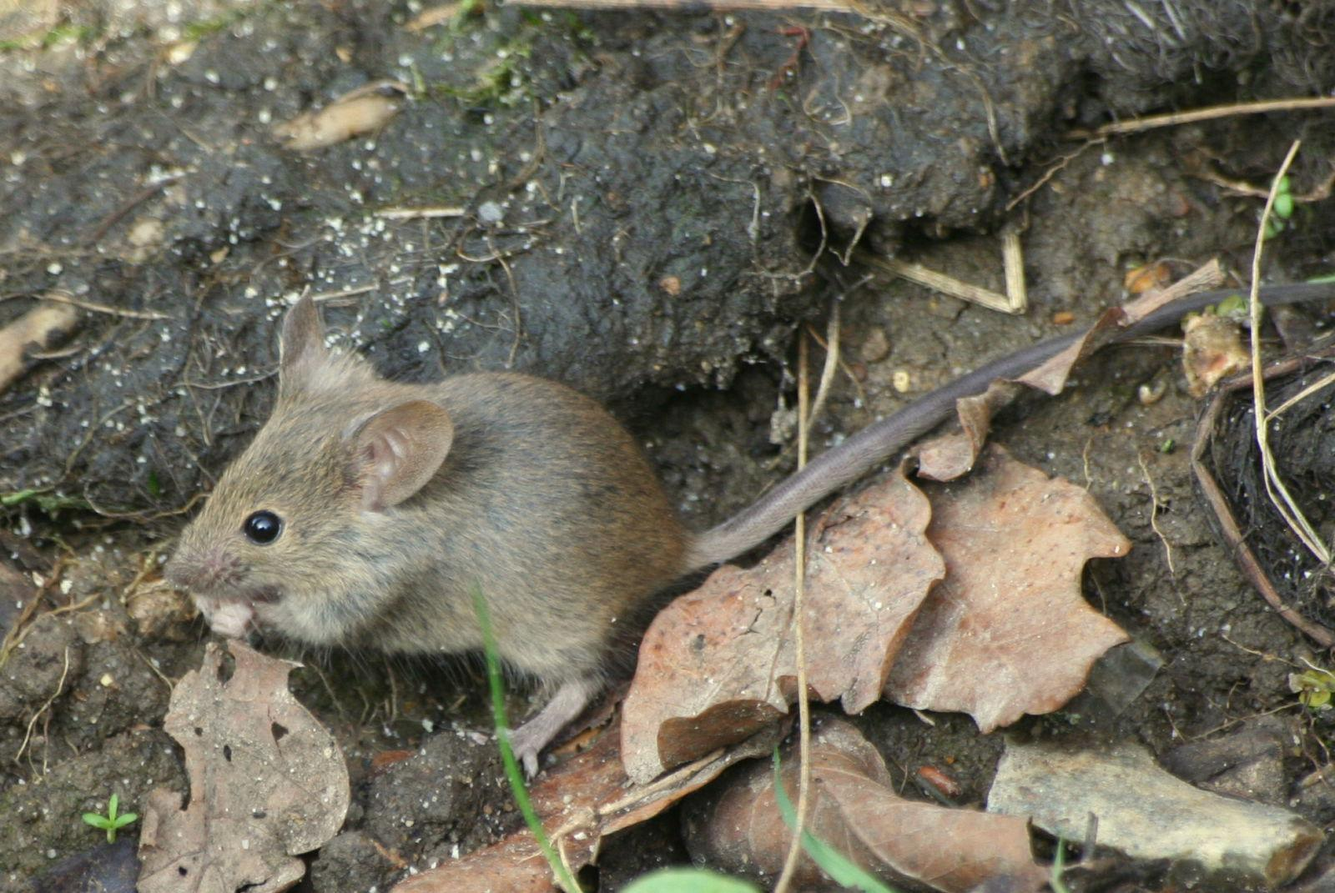rat: (164, 283, 1335, 778)
